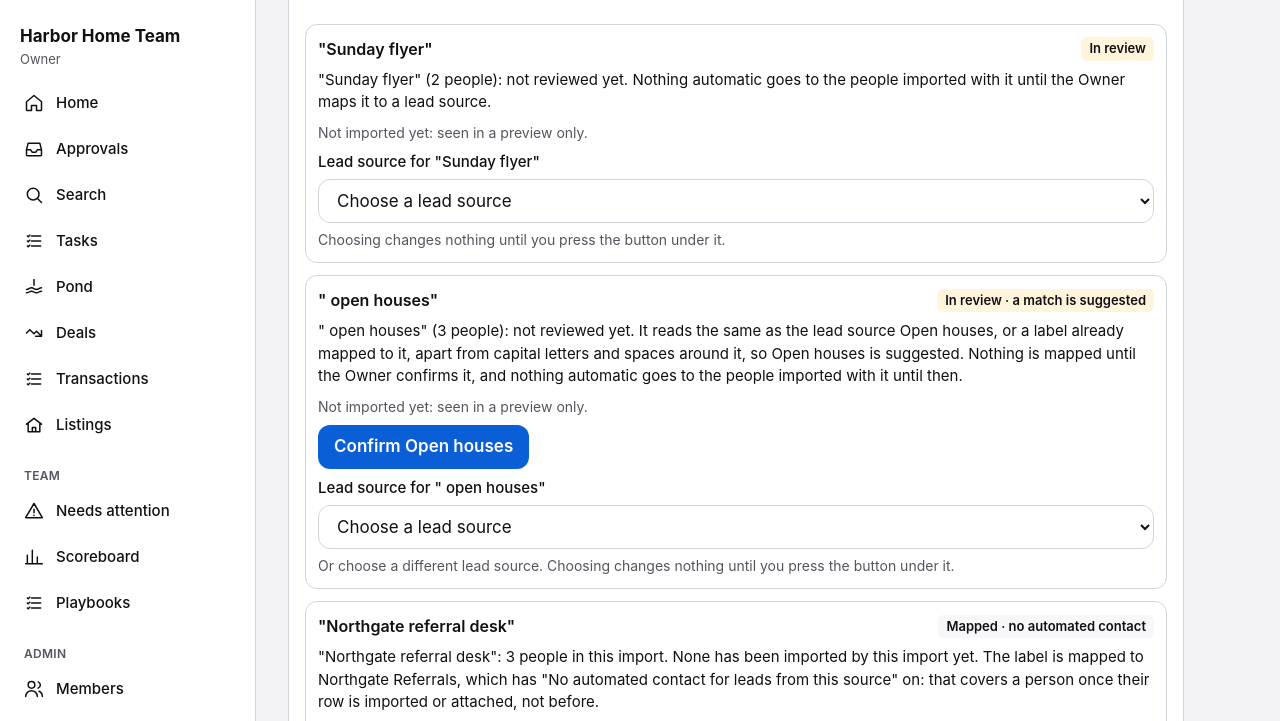
Test: R-LSRC-10 W1: Review sources is a step of every import › R-LSRC-10 E750 E741: an exact-match suggestion is only suggested; Confirm asks the server for exactly the source shown, and a suggestion that changed meanwhile
(page scrolled)
Expected: the dropdown labelled "Lead source for \" open houses\"" shows "Choose a lead source", [318,505,1154,549]
Click the button "Confirm Open houses" at (424, 447), box [318,425,529,469]
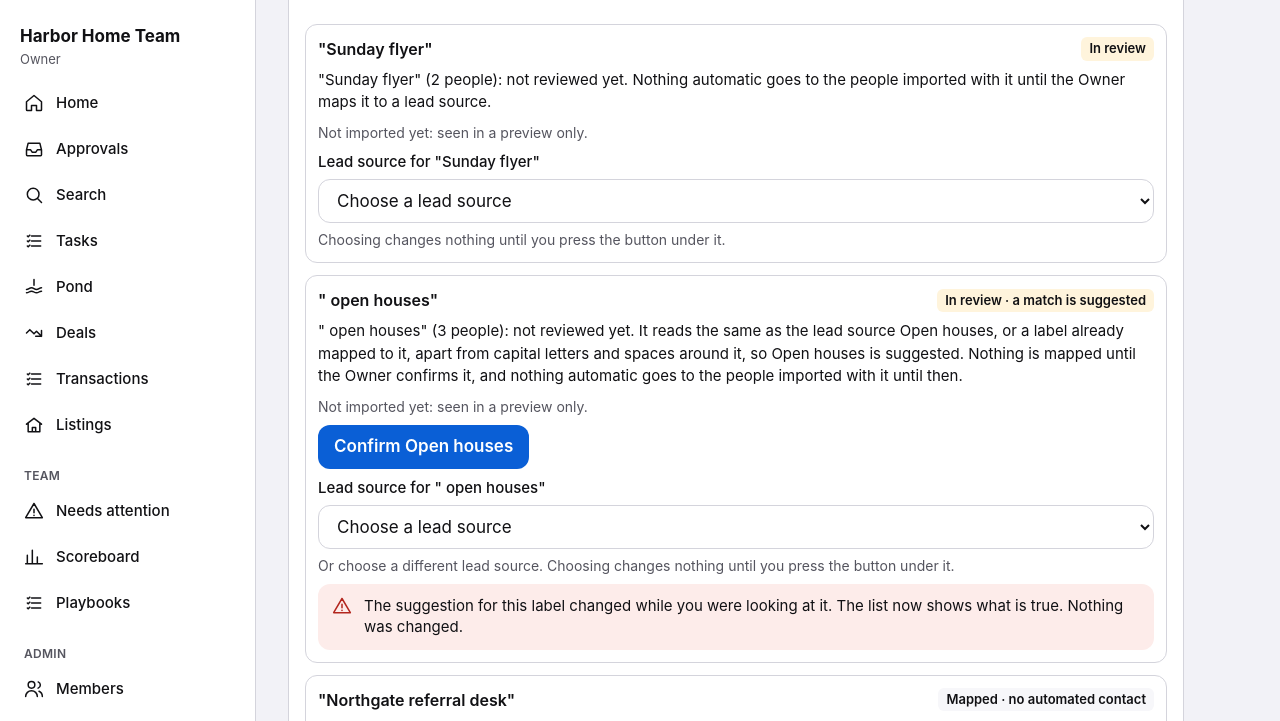
Expected: the text "The suggestion for this label changed while you were looking at it. The list now shows what is true. Nothing was changed" is shown, [364,596,1140,638]
Click the button "Confirm Open houses" at (424, 447), box [318,425,529,469]
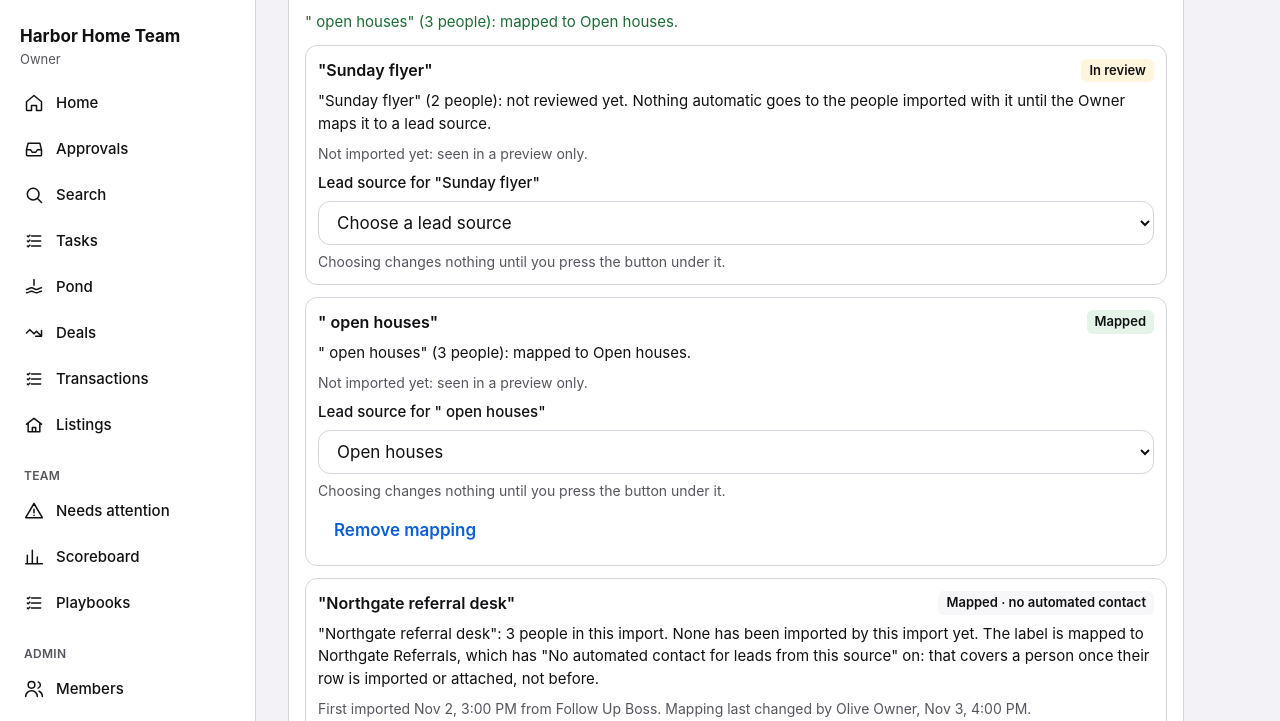
Expected: the text "Mapped" is shown, [1086,310,1154,334]
